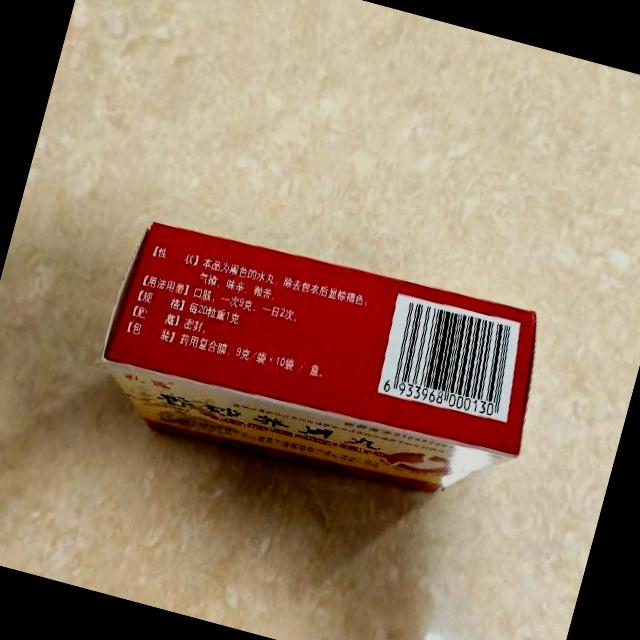box: (84, 204, 557, 524)
